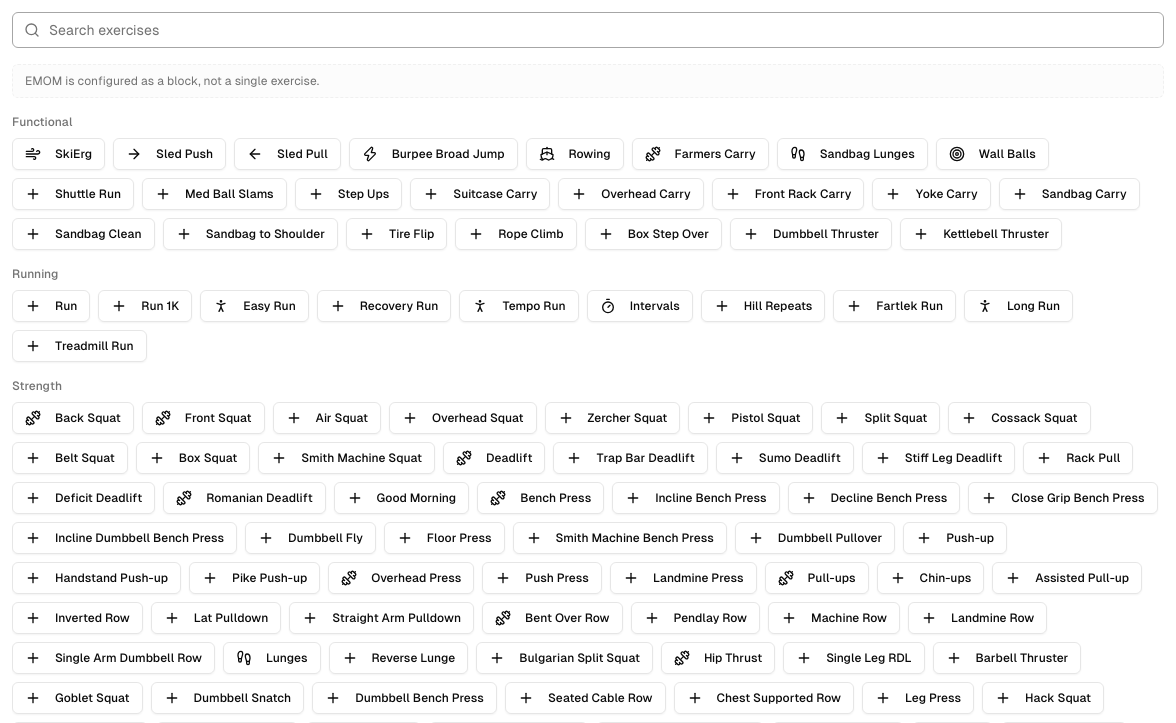
Scenario: ExerciseSelector › filters exercises by displayed label and keeps the EMOM helper visible
Type "sled push" into the search field labelled "Search exercises" at (588, 30), box [12,12,1164,48]
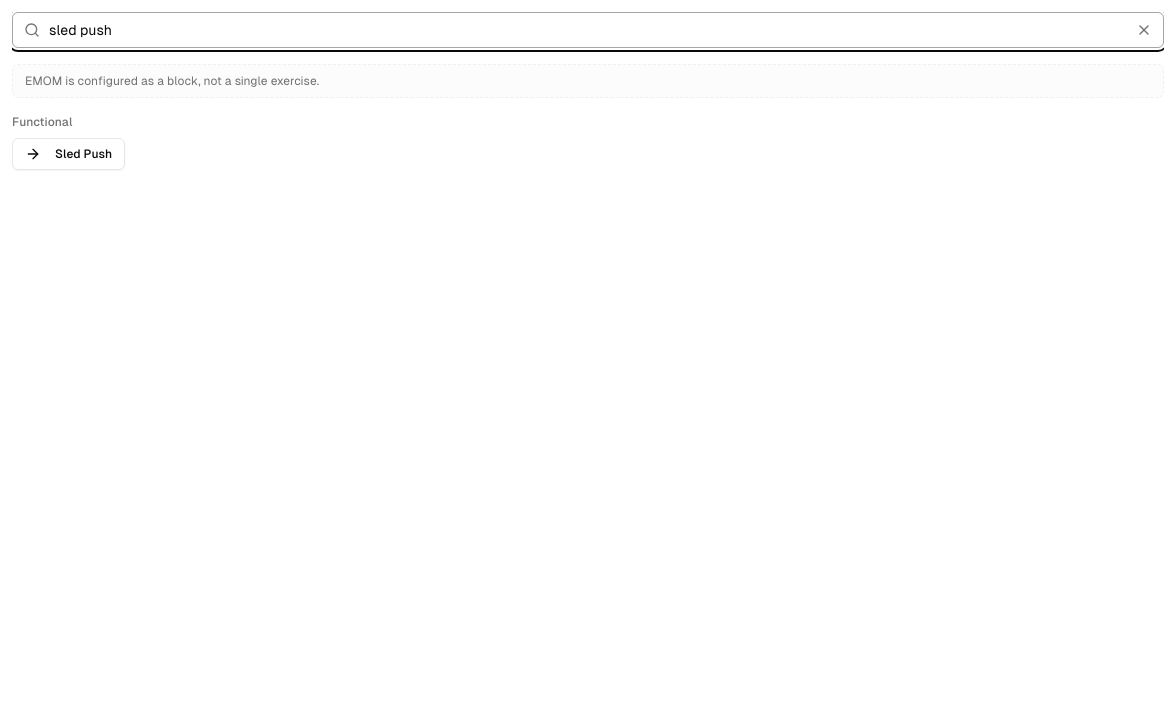
expect the text with test id "exercise-selector-emom-help" shows "EMOM is configured": met, box [25,74,319,88]
expect the button with test id "button-exercise-back_squat" is gone: met
expect the text "Strength" is gone: met
